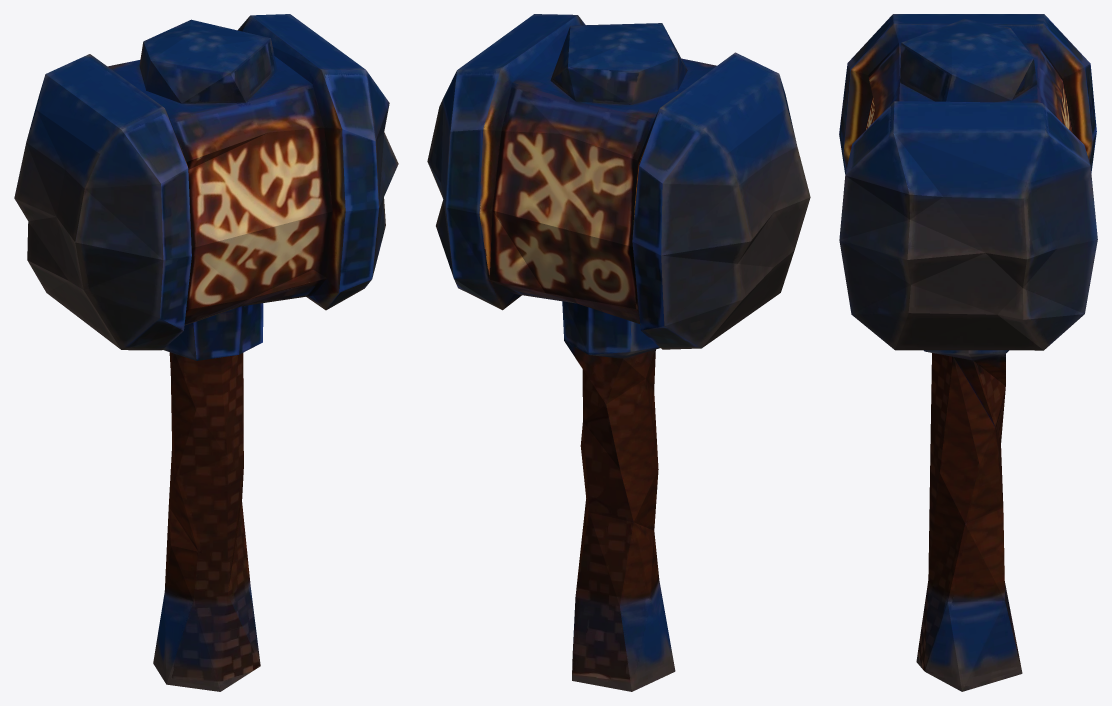
Rendered from mystic_war_hammer.glb.
3 views of the same model, side by side, from view 1: azimuth 30°, elevation 25°; view 2: azimuth 150°, elevation 25°; view 3: azimuth 270°, elevation 25° (orthographic).
Parts seen in each view (by area): view 1: TexturedMesh_.obj; view 2: TexturedMesh_.obj; view 3: TexturedMesh_.obj.
Boxes of the visible parts, x1,y1,x2,y2 form: TexturedMesh_.obj: [14, 14, 398, 691]; TexturedMesh_.obj: [427, 14, 810, 691]; TexturedMesh_.obj: [839, 14, 1097, 691].
Bounding box in the file's own units: 1.05 × 1.95 × 0.728.
1 material, 1 textured.
